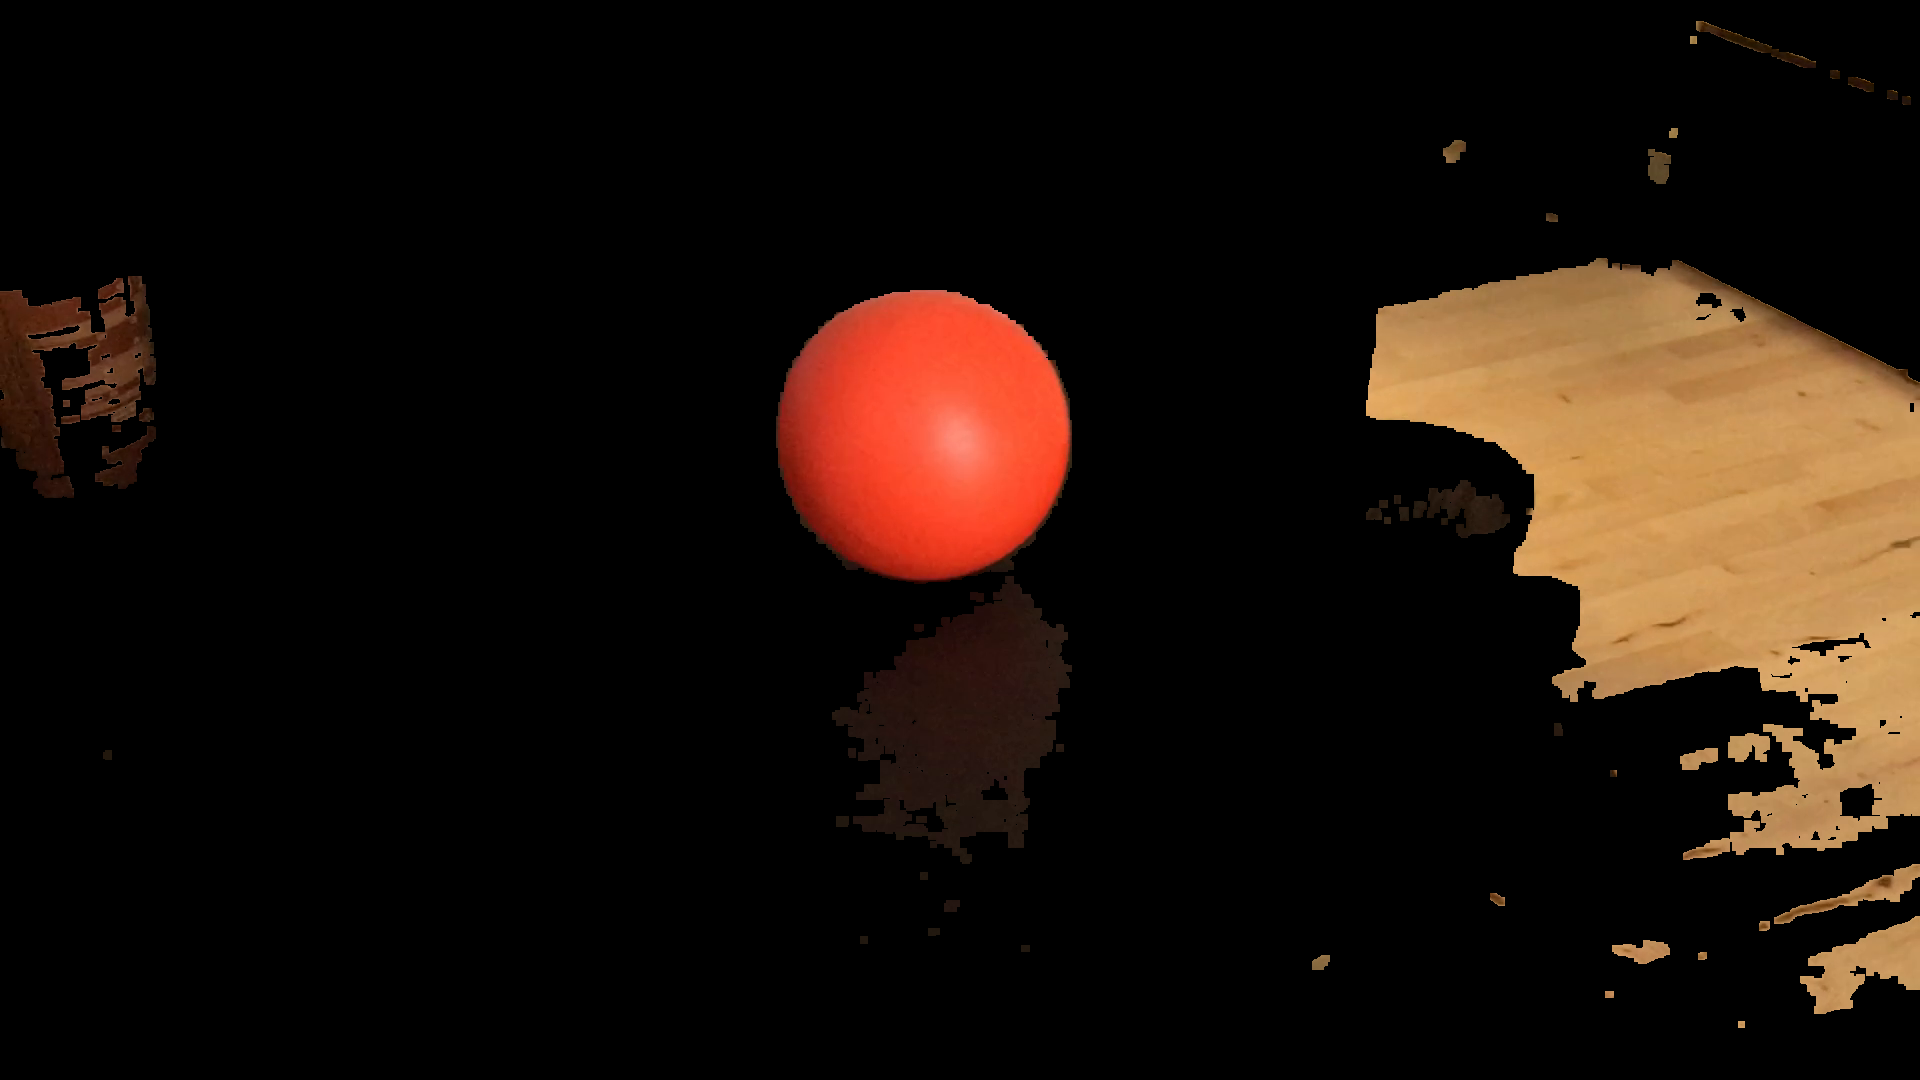Ball: (771, 287, 1073, 574)
